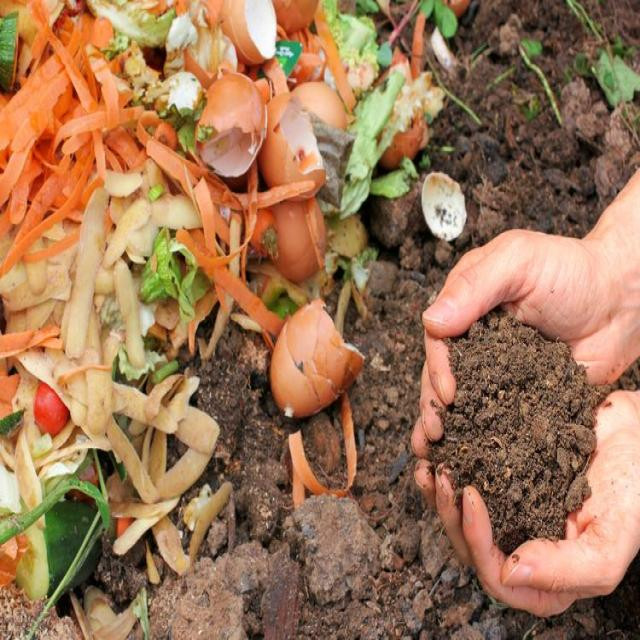Organik: (0, 0, 470, 639)
